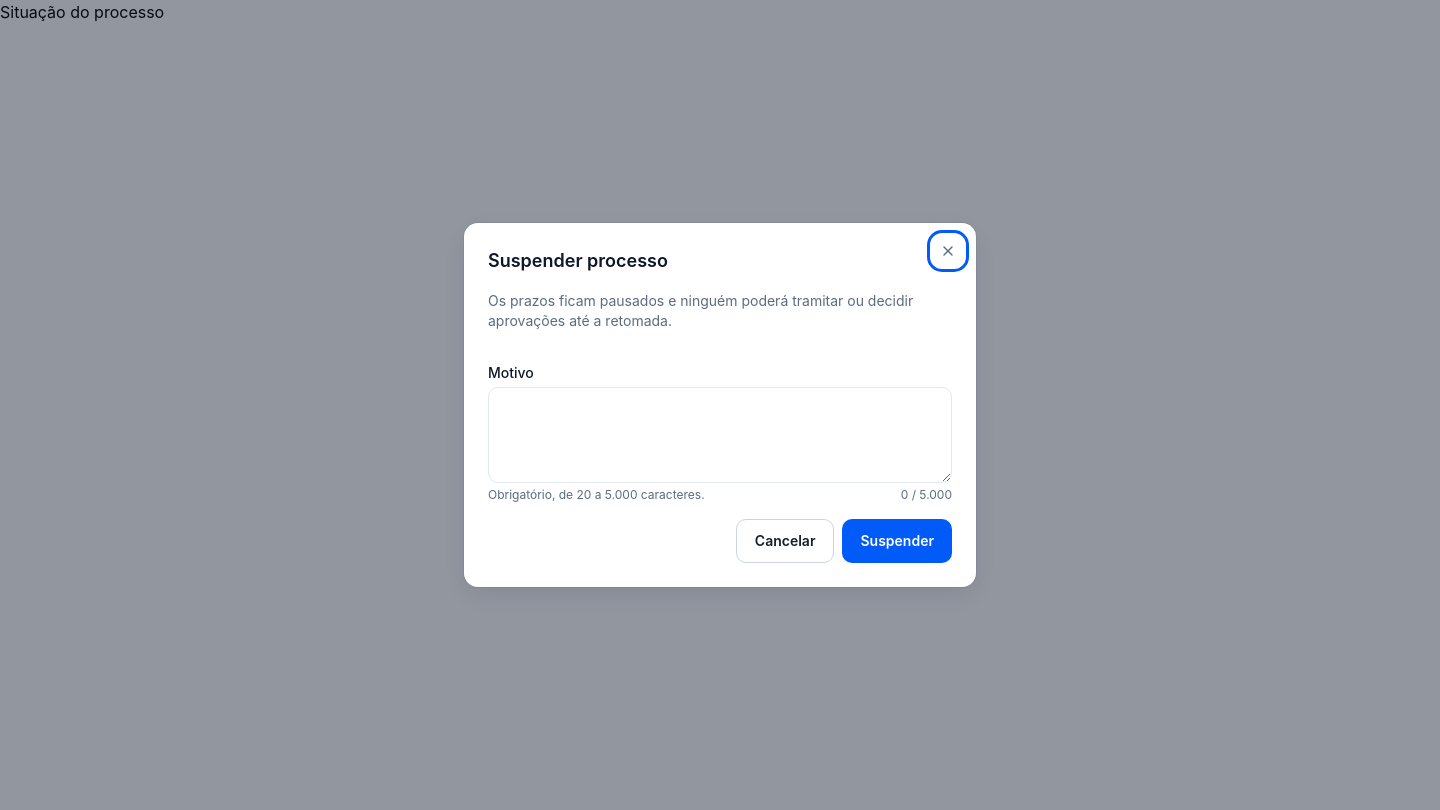
Test: SCR-116 · Diálogo "Suspender processo" (US-008) › [Falha de banco] 503: mantém o diálogo e o texto, com "Tentar novamente"
Type "Aguardando definição da dotação pela Secretaria de Finanças" into the text box labelled "Motivo" at (720, 435), box [488,387,952,483]
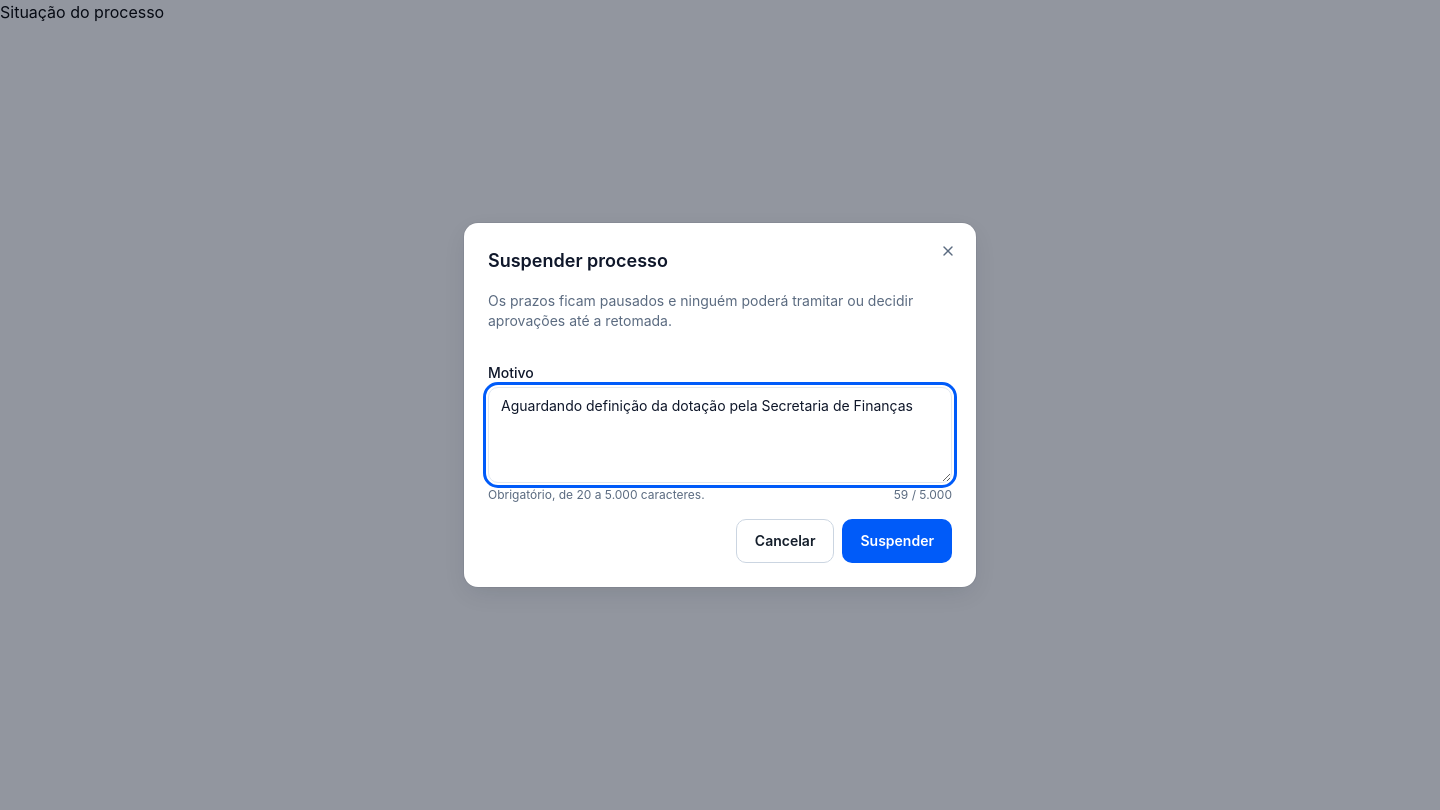
Click the button "Suspender" at (897, 541), box [842,519,952,563]
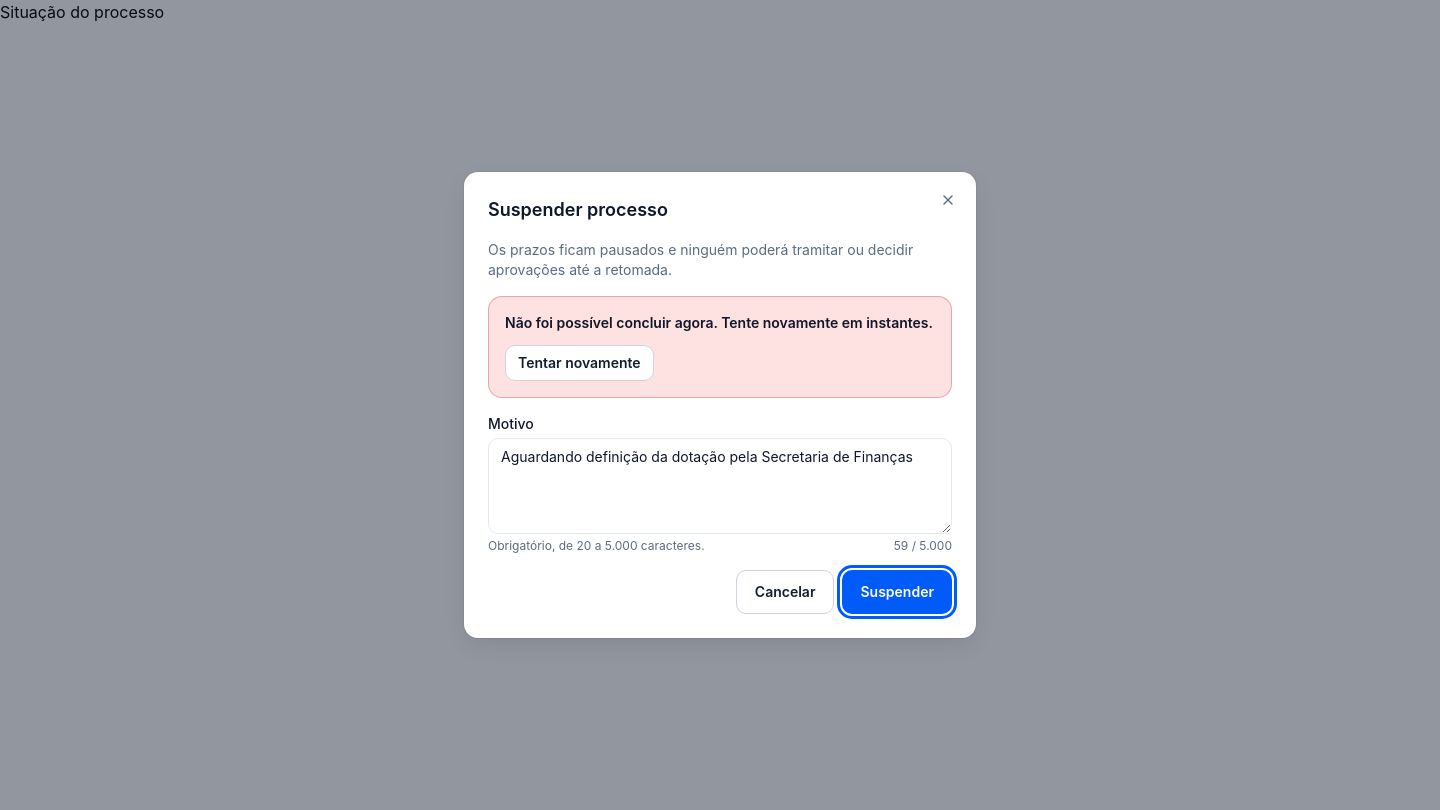
expect the text "Não foi possível concluir agora. Tente novamente em instantes." is shown: met, box [505,313,935,333]
expect the button "Tentar novamente" is shown: met, box [505,345,654,381]
